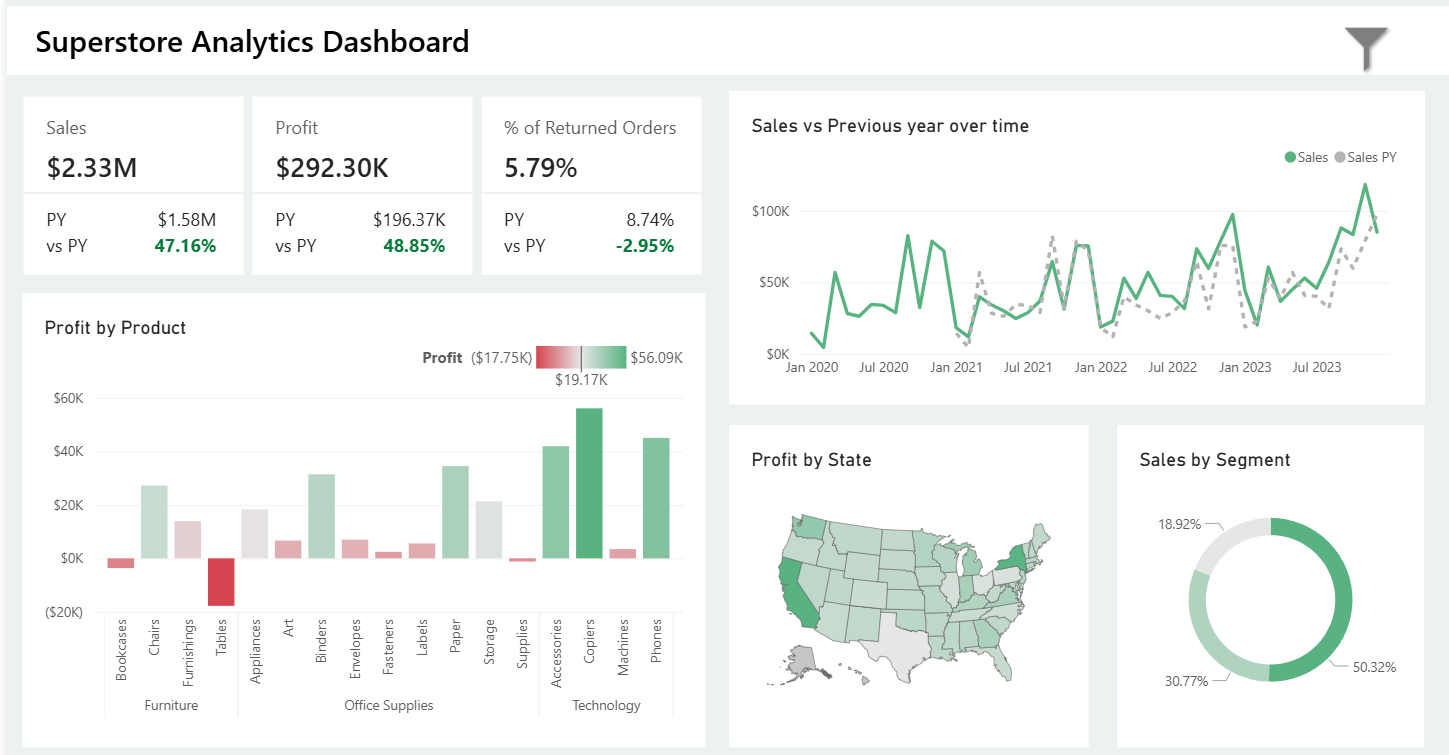

The page's visual inventory and layout, read from the dashboard file:
{"tool":"powerbi","page":{"name":"Page 1","canvas":[1280,720],"ordinal":0},"visuals":[{"type":"image","title":"Filter","box":[1135.3,41.2,144.9,72.5],"z":0,"group":"g1"},{"type":"cardVisual","fields":{"Data":["Key Measures.Sales","Key Measures.Profit","Key Measures.% of Returned Orders"]},"box":[9.8,112.1,613.9,168.7],"z":0},{"type":"shape","box":[0,35.9,1280,61],"z":1000},{"type":"lineChart","title":"Sales vs Previous year over time ","fields":{"Y":["Key Measures.Sales","Key Measures.Sales PY"],"Category":["Data Table.Start of month"]},"box":[640,111.9,616.7,278.2],"z":2000},{"type":"columnChart","title":"Profit by Product","fields":{"Category":["Orders.Category","Orders.Sub-Category"],"Y":["Key Measures.Profit"]},"box":[13.1,290.6,606.3,402.7],"z":3000},{"type":"shapeMap","title":"Profit by State","fields":{"Value":["Key Measures.Profit"],"Category":["Orders.State/Province"]},"box":[640,407.5,319,286],"z":4000},{"type":"donutChart","title":"Sales by Segment","fields":{"Y":["Key Measures.Sales"],"Category":["Orders.Segment"]},"box":[984.3,407.5,272.3,286],"z":5000},{"type":"group","id":"g1","title":"Slicer panel","box":[624.4,13.7,655.8,543.4],"z":6000}]}

Visuals, with their boxes on the page's 1280x720 design canvas (x1, y1, x2, y2). These are canvas units, not pixel positions in the 1449x755 screenshot, which may show the page scaled, cropped or inside an application window:
"Filter" image: select_region(1135, 41, 1280, 114)
cardVisual - Key Measures.Sales x Key Measures.Profit: select_region(10, 112, 624, 281)
shape: select_region(0, 36, 1280, 97)
"Sales vs Previous year over time " lineChart: select_region(640, 112, 1257, 390)
"Profit by Product" columnChart: select_region(13, 291, 619, 693)
"Profit by State" shapeMap: select_region(640, 408, 959, 694)
"Sales by Segment" donutChart: select_region(984, 408, 1257, 694)
"Slicer panel" group: select_region(624, 14, 1280, 557)
